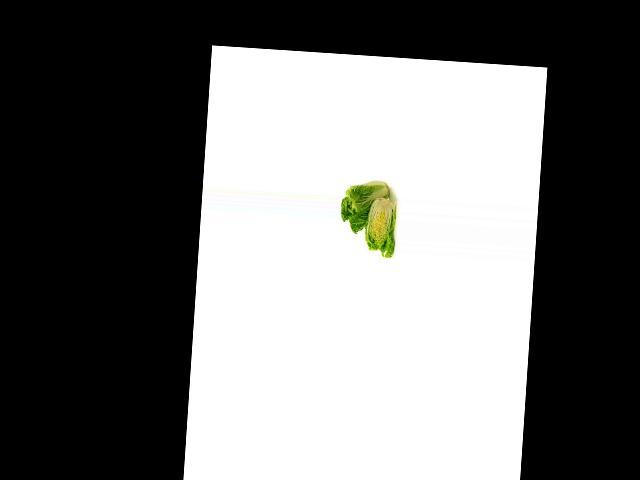lettuce: (336, 177, 393, 239)
